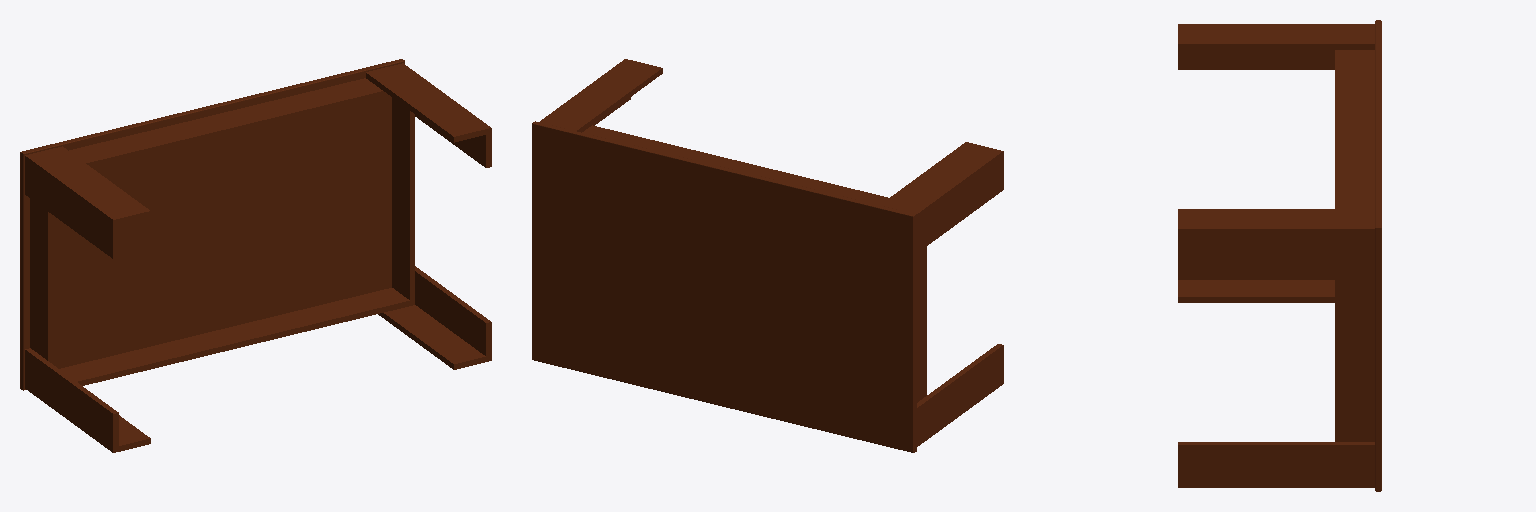
robot.urdf — model.urdf:
<?xml version="0.0" ?>
<robot name="model.urdf">
  <link name="baseLink">
    <contact>
      <friction_anchor/>
      <lateral_friction value="0.3"/>
      <rolling_friction value="0.0"/>
      <contact_cfm value="0.0"/>
      <contact_erp value="1.0"/>
    </contact>
    <inertial>
       <origin rpy="0 0 0" xyz="0 0 0"/>
       <mass value="0.1"/>
       <inertia ixx="8e-05" ixy="0" ixz="0" iyy="0.0002" iyz="0" izz="0.0002"/>
    </inertial>
    <visual>
          <origin xyz="0 0 0" rpy="0 0 0"/>
      <geometry>
        <mesh filename="Coffee_Table_Marengo.obj" scale="0.003   0.003 0.003"/>
      </geometry>
   <material name="dark_brown">
  <color rgba="0.4 0.2 0.1 1"/>
</material>
    </visual>
    <collision>
          <origin xyz="0 0 0" rpy="0 0 0"/>
      <geometry>
        <mesh filename="Coffee_Table_Marengo.obj" scale="0.003   0.003 0.003"/>
      </geometry>
    </collision>
  </link>
</robot>

--- Facts derived from the render (not from the file) ---
Views: 3 orthographic renders of the robot side by side, from view 1: azimuth 30°, elevation 25°; view 2: azimuth 150°, elevation 25°; view 3: azimuth 270°, elevation 25°.
Robot: model.urdf — 1 links, 0 joints (none); root link baseLink; default pose: every joint at zero.
Visible links, largest first — view 1: baseLink; view 2: baseLink; view 3: baseLink.
Boxes of the visible links, x1,y1,x2,y2 form: baseLink: (20,59,491,452); baseLink: (532,59,1003,452); baseLink: (1178,20,1381,491).
Bounding box of the posed robot: 0.336 × 0.1395 × 0.1995 m (x, y, z).
1 mesh visuals loaded from 1 distinct referenced files (1 OBJ).